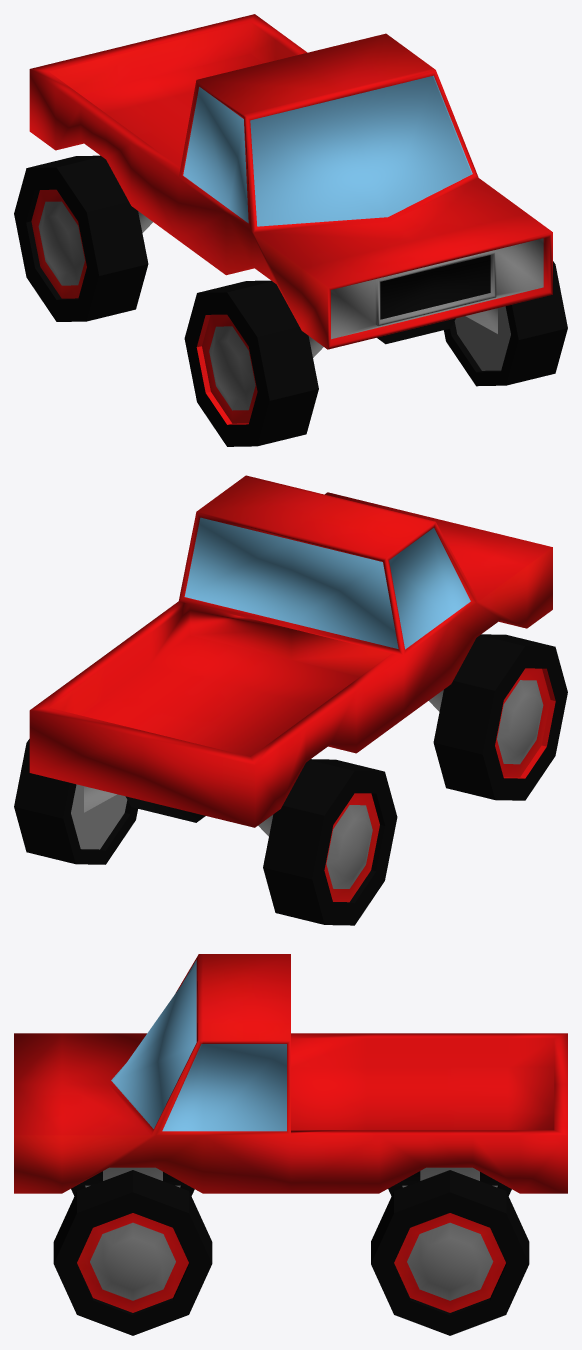
The model's file is CarV2.fbx.
The picture shows the model from 3 angles, top to bottom: view 1: azimuth 30°, elevation 25°; view 2: azimuth 150°, elevation 25°; view 3: azimuth 270°, elevation 25°; orthographic projection. The views are drawn at different scales.
Visible parts, largest first — view 1: Cube, Wheel FR, Wheels RR, Wheels FL, Body; view 2: Cube, Wheel FR, Wheels RR, Wheels RL, Body; view 3: Cube, Wheels FL, Wheels RL, Body.
Part boxes in pixels (x1,y1,x2,y2): Cube: [29, 14, 552, 349]; Wheel FR: [184, 280, 318, 446]; Wheels RR: [14, 155, 148, 321]; Wheels FL: [444, 261, 567, 386]; Body: [138, 211, 497, 357]; Cube: [29, 475, 552, 827]; Wheel FR: [433, 634, 567, 800]; Wheels RR: [263, 759, 397, 925]; Wheels RL: [14, 739, 137, 864]; Body: [84, 690, 443, 836]; Cube: [14, 954, 567, 1193]; Wheels FL: [53, 1170, 212, 1335]; Wheels RL: [371, 1170, 529, 1335]; Body: [77, 1167, 504, 1185].
Bounding box in the file's own units: 186 × 170 × 315.
